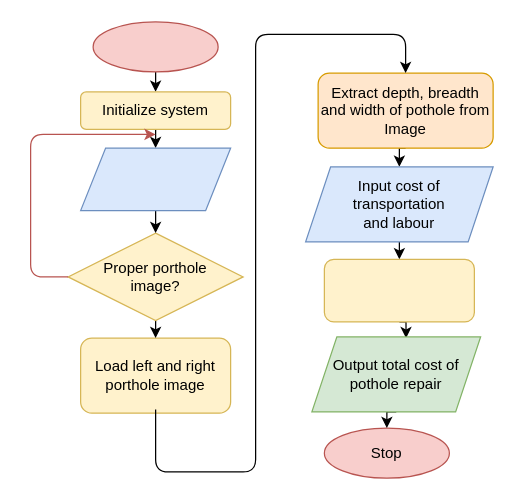
The diagram is 515 pixels wide and 504 high, and some of its shapes have lost their labels. The box of each missing label's shape, as (x1, y1, x2, y2) in pixels:
Compute cost of porthole repair: (323, 258, 474, 322)
Input porthole image: (79, 147, 231, 211)
Start: (92, 21, 218, 72)
